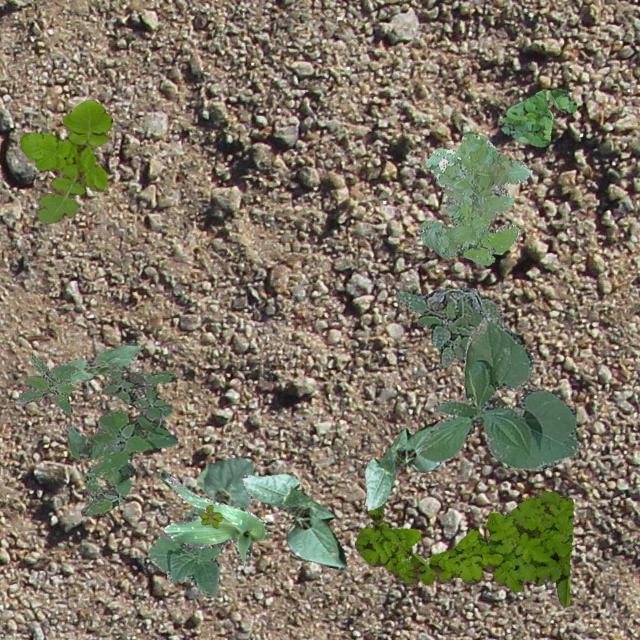crop: (417, 316, 578, 469), (156, 471, 272, 564), (240, 472, 346, 568), (363, 418, 439, 509), (146, 506, 220, 596), (185, 456, 252, 520), (48, 342, 140, 382), (64, 422, 120, 458)
weed: (353, 490, 572, 604), (418, 132, 530, 264), (80, 362, 176, 516), (18, 99, 112, 224), (394, 286, 504, 366), (498, 88, 576, 146), (14, 353, 76, 412), (198, 503, 220, 528)
